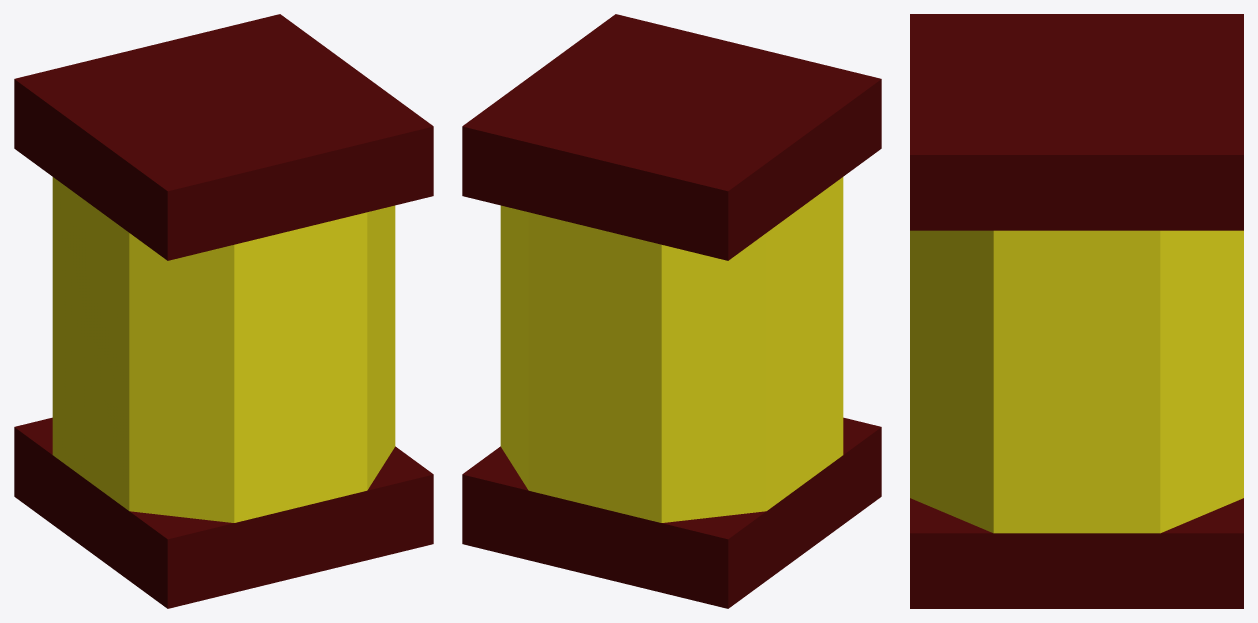
Rendered from zapper_ammo.obj.
3 renders of one model, left to right at view 1: azimuth 30°, elevation 25°; view 2: azimuth 150°, elevation 25°; view 3: azimuth 270°, elevation 25°, orthographic. The views are drawn at different scales.
Parts seen in each view (by area): view 1: entity0_brush1, entity0_brush2, entity0_brush0; view 2: entity0_brush1, entity0_brush2, entity0_brush0; view 3: entity0_brush1, entity0_brush2, entity0_brush0.
Boxes of the visible parts, x1,y1,x2,y2 form: entity0_brush1: (52, 177, 395, 522); entity0_brush2: (14, 14, 433, 260); entity0_brush0: (14, 417, 433, 608); entity0_brush1: (500, 177, 843, 522); entity0_brush2: (462, 14, 881, 260); entity0_brush0: (462, 417, 881, 608); entity0_brush1: (910, 230, 1243, 533); entity0_brush2: (910, 14, 1243, 230); entity0_brush0: (910, 498, 1243, 608).
Bounding box in the file's own units: 64 × 96 × 64.
2 materials, 2 textured.
